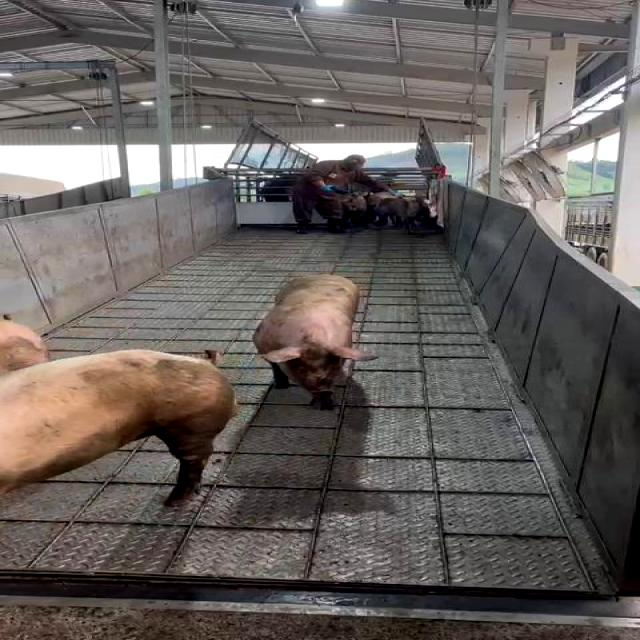pig: (0, 350, 236, 506), (252, 275, 374, 408)
